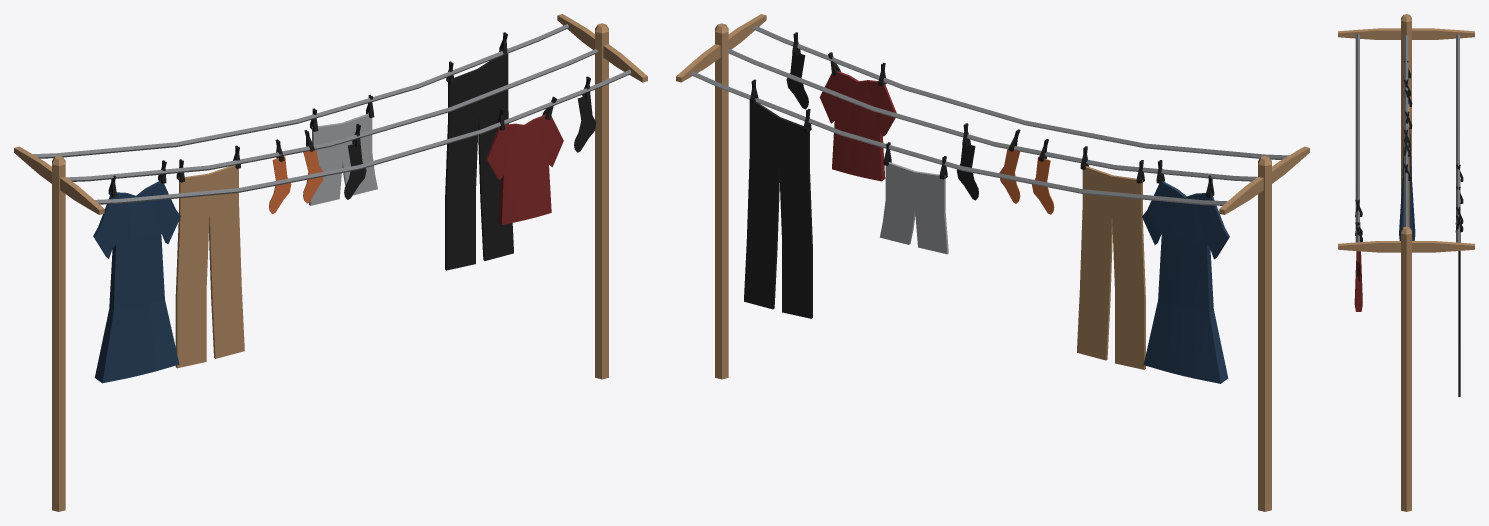
Rendered from SM_clothes_drying_rack_03.fbx.
The picture shows the model from 3 angles, left to right: view 1: azimuth 30°, elevation 25°; view 2: azimuth 150°, elevation 25°; view 3: azimuth 270°, elevation 25°; orthographic projection. The views are drawn at different scales.
Parts seen in each view (by area): view 1: Cylinder032; view 2: Cylinder032; view 3: Cylinder032.
Part boxes in pixels (box(x1,y1,x2,y2)): Cylinder032: box(14, 14, 647, 511); Cylinder032: box(676, 14, 1309, 511); Cylinder032: box(1338, 14, 1474, 511).
Size of the model in its own units: 157 by 94.78 by 41.76.
